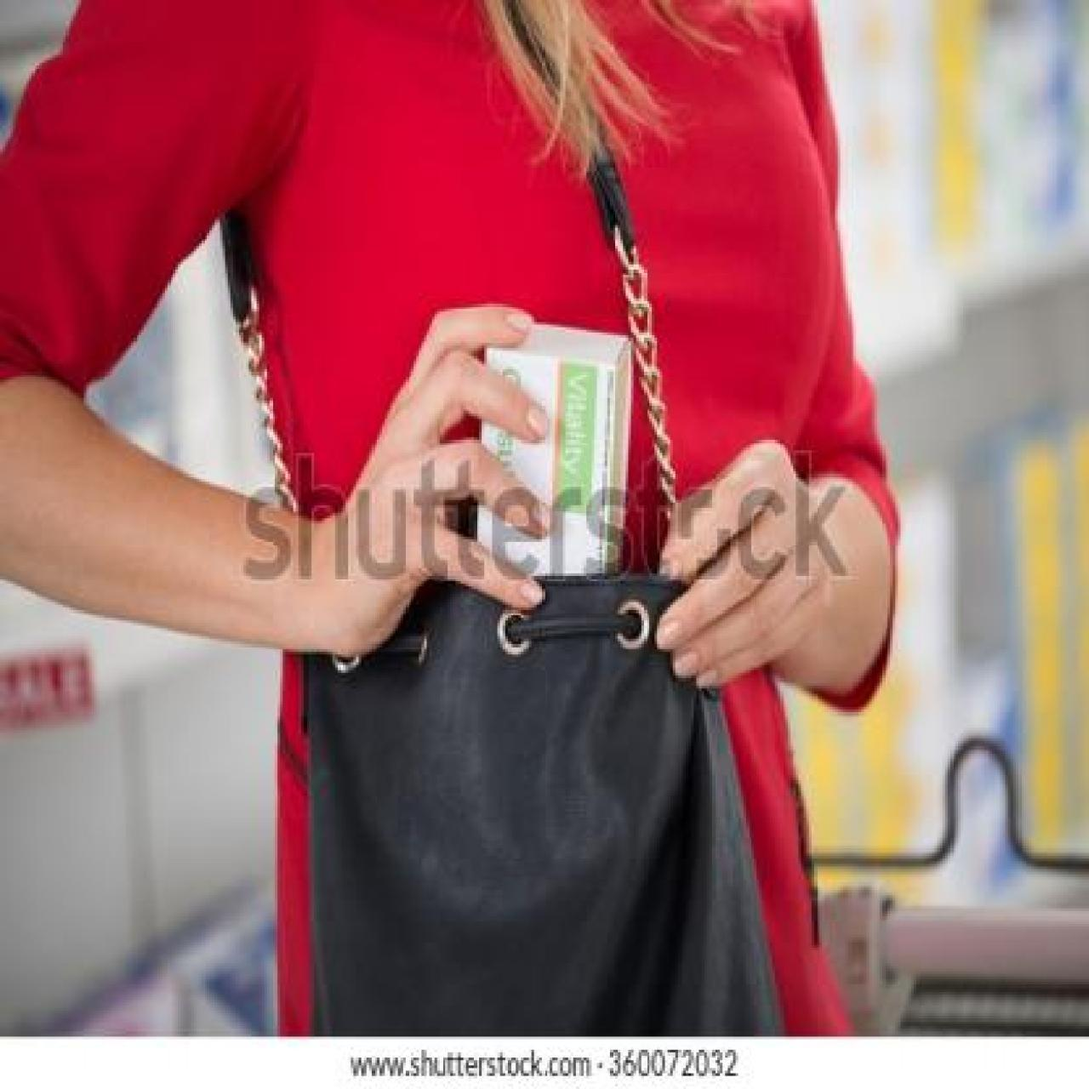shoplifting: (4, 238, 1020, 1037)
